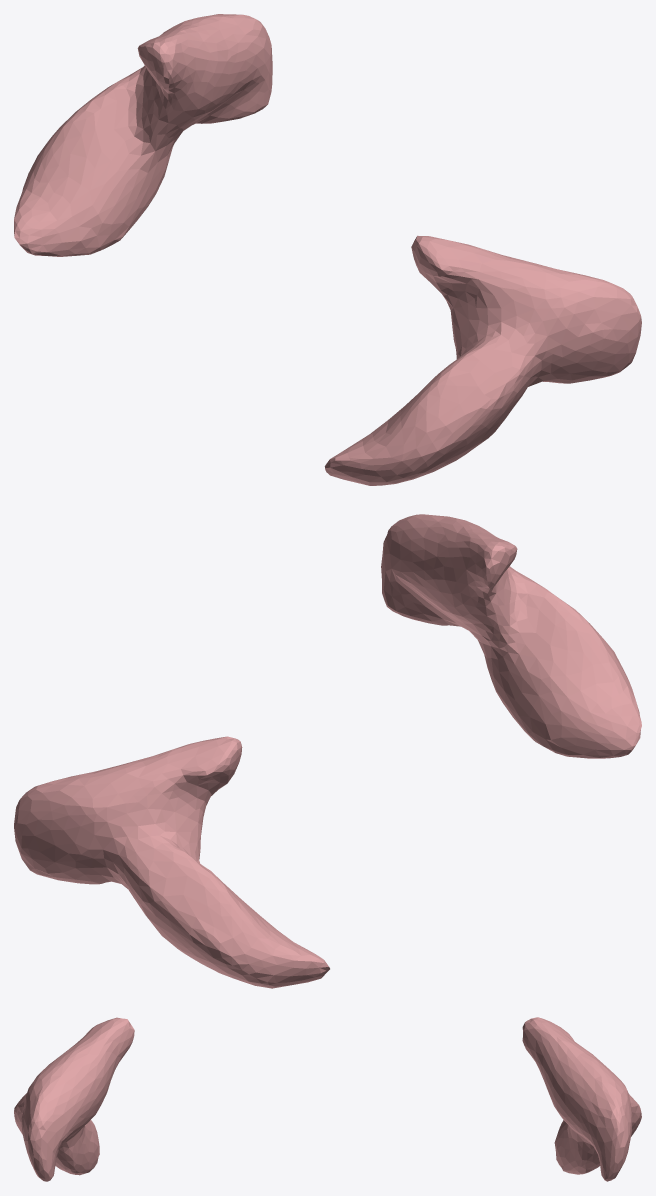
3 renders of one model, top to bottom at view 1: azimuth 30°, elevation 25°; view 2: azimuth 150°, elevation 25°; view 3: azimuth 270°, elevation 25°, orthographic. The views are drawn at different scales.
Parts seen in each view (by area): view 1: 1008.obj; view 2: 1008.obj; view 3: 1008.obj.
Part boxes in pixels (box(x1,y1,x2,y2)): 1008.obj: box(14, 14, 641, 485); 1008.obj: box(14, 514, 641, 988); 1008.obj: box(14, 1017, 641, 1181).
Bounding box in the file's own units: 2209 × 1564 × 5353.
